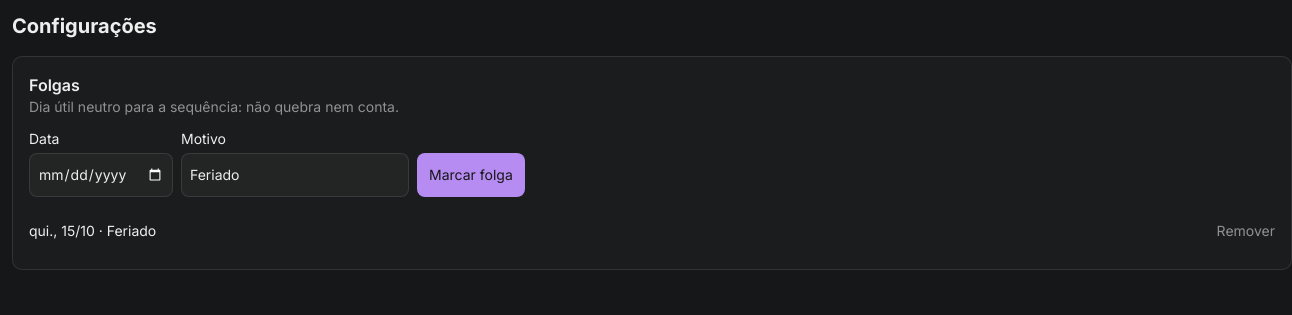
it: remover folga › mostra o erro quando a remoção falha
Click the button with aria-label "Remover folga" at (1246, 231), box [1217,209,1275,253]
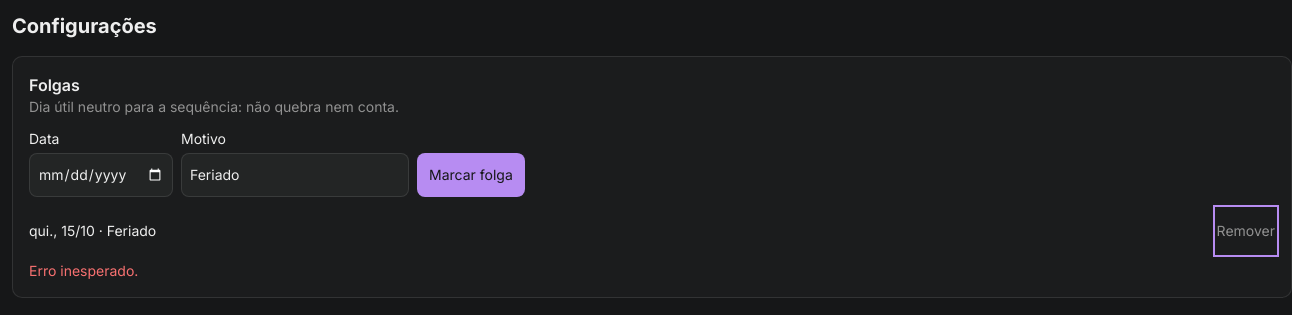
Check: the text "qui., 15/10 · Feriado" is shown, box [29,222,156,239]
Check: the message reads "Erro inesperado.", box [29,262,138,279]
